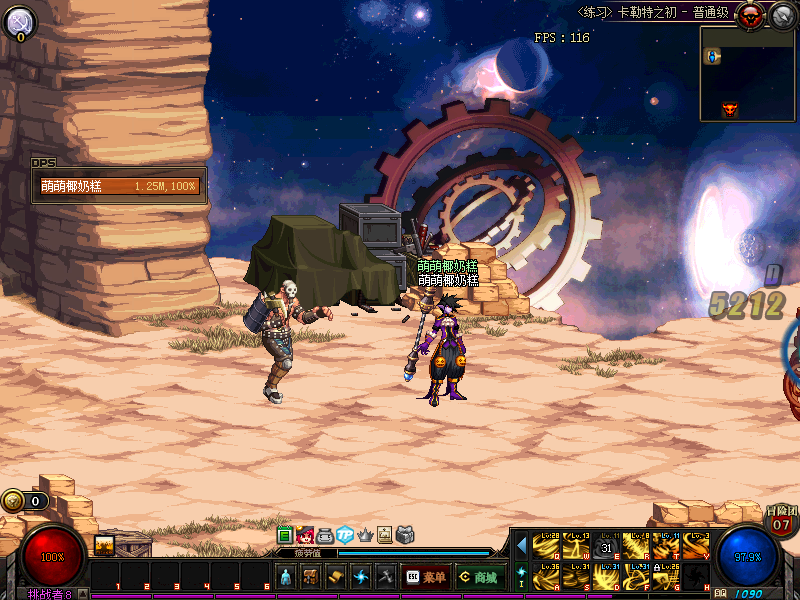BoneMan: (251, 279, 298, 402)
StormRider: (427, 294, 466, 404)
